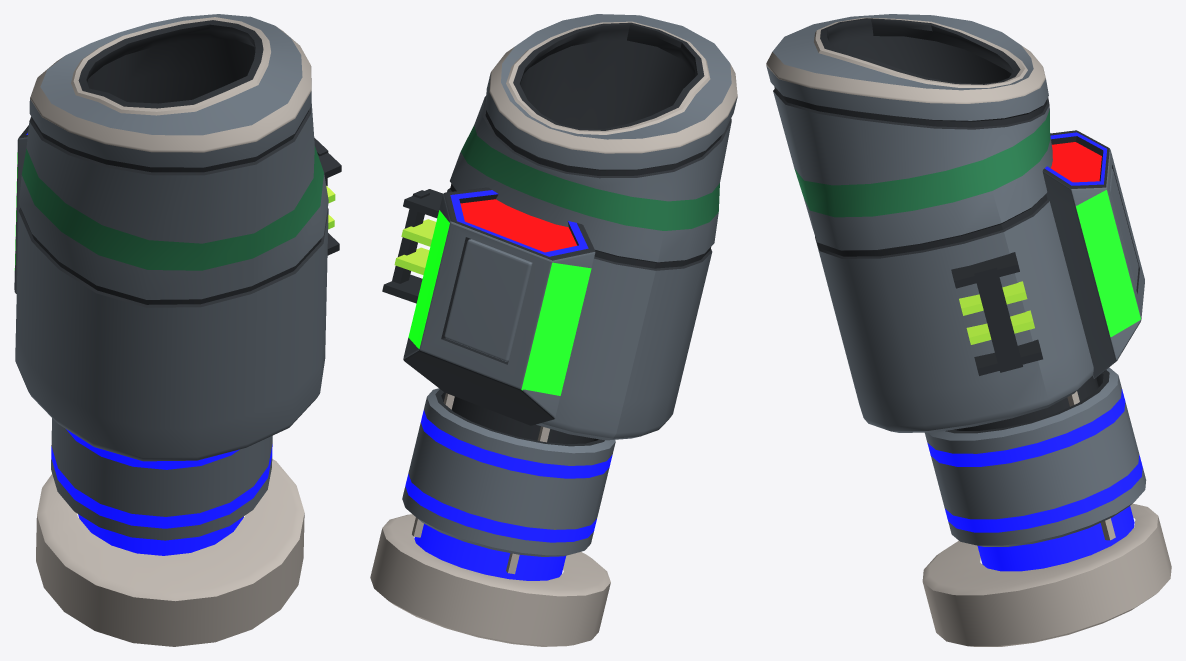
File: arm-cannon.glb
3 renders of one model, left to right at view 1: azimuth 30°, elevation 25°; view 2: azimuth 150°, elevation 25°; view 3: azimuth 270°, elevation 25°, orthographic. The views are drawn at different scales.
Visible parts, largest first — view 1: cannon_shell, cannon_slide; view 2: cannon_shell, cannon_slide, cannon_vent; view 3: cannon_shell, cannon_slide, cannon_vent.
Part boxes in pixels (<box>): cannon_shell: <box>14,14,341,646</box>; cannon_slide: <box>51,418,272,540</box>; cannon_shell: <box>370,14,737,646</box>; cannon_slide: <box>402,388,615,556</box>; cannon_vent: <box>444,239,532,361</box>; cannon_shell: <box>766,14,1171,646</box>; cannon_slide: <box>925,367,1146,546</box>; cannon_vent: <box>1109,168,1138,289</box>.
Bounding box in the file's own units: 0.2145 × 0.3961 × 0.2566.
Materials: 1 (1 with a texture image).
